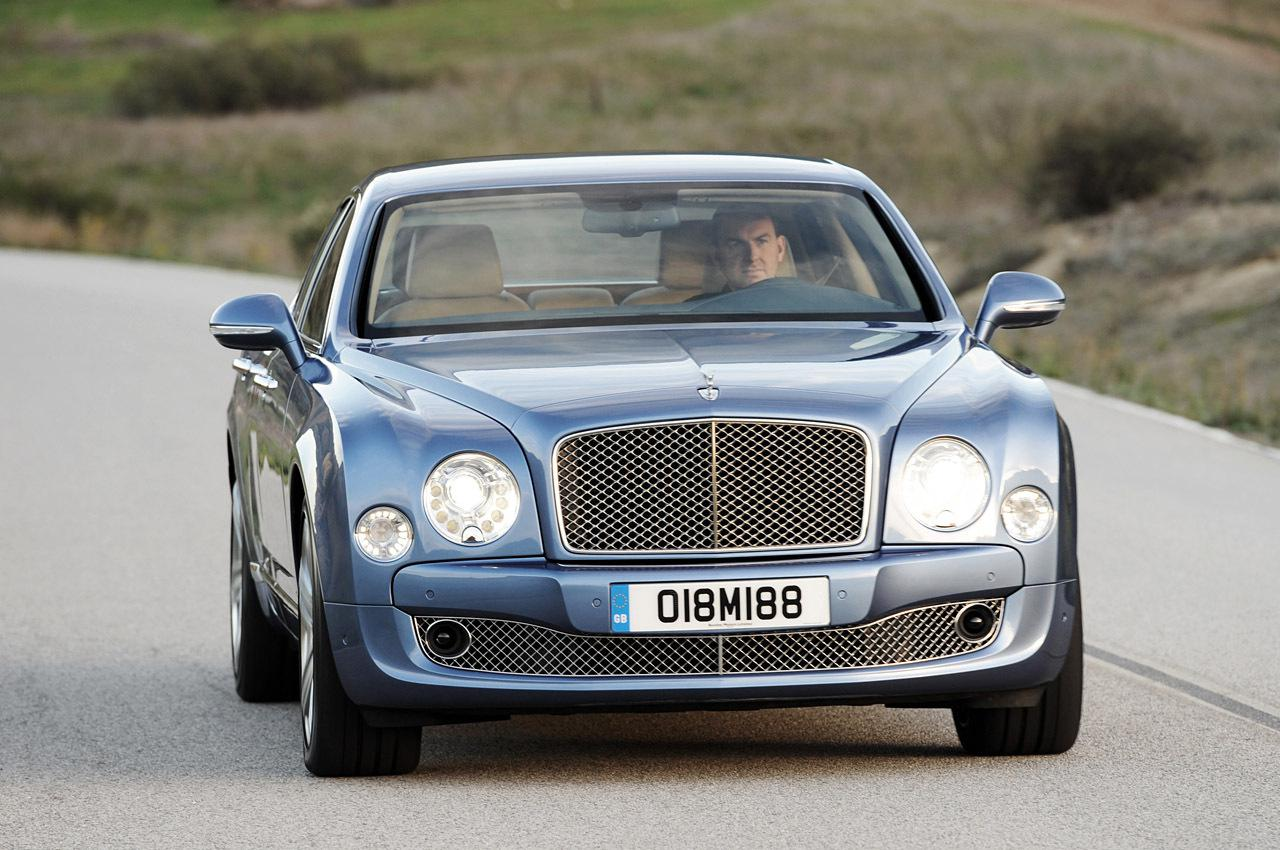Car: (179, 109, 1154, 809)
